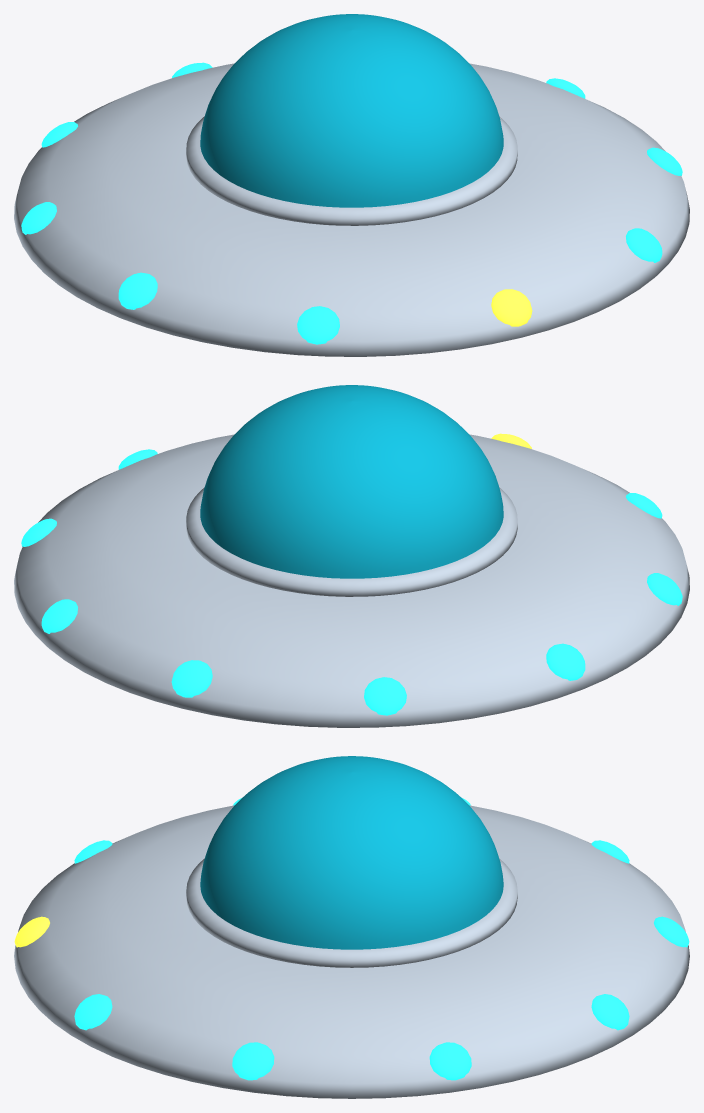
Rendered from AFJ_UFO.fbx.
The picture shows the model from 3 angles, top to bottom: view 1: azimuth 30°, elevation 25°; view 2: azimuth 150°, elevation 25°; view 3: azimuth 270°, elevation 25°; orthographic projection.
Parts seen in each view (by area): view 1: Saucer_Body, Canopy, Canopy_Rim, Rim_Light_09, Rim_Light_00, Rim_Light_08, Rim_Light_01, Rim_Light_07, Rim_Light_02; view 2: Saucer_Body, Canopy, Canopy_Rim, Rim_Light_06, Rim_Light_05, Rim_Light_07, Rim_Light_04, Rim_Light_08, Rim_Light_03; view 3: Saucer_Body, Canopy, Canopy_Rim, Rim_Light_02, Rim_Light_03, Rim_Light_01, Rim_Light_04, Rim_Light_00, Rim_Light_05.
Part boxes in pixels (x1,y1,x2,y2): Saucer_Body: [14, 63, 689, 356]; Canopy: [200, 14, 503, 207]; Canopy_Rim: [186, 116, 517, 225]; Rim_Light_09: [297, 306, 339, 344]; Rim_Light_00: [491, 289, 532, 326]; Rim_Light_08: [118, 272, 157, 309]; Rim_Light_01: [626, 228, 662, 262]; Rim_Light_07: [21, 202, 56, 234]; Rim_Light_02: [647, 147, 682, 175]; Saucer_Body: [14, 434, 689, 727]; Canopy: [200, 385, 503, 578]; Canopy_Rim: [186, 487, 517, 596]; Rim_Light_06: [364, 677, 406, 715]; Rim_Light_05: [171, 660, 212, 697]; Rim_Light_07: [546, 643, 585, 680]; Rim_Light_04: [41, 599, 77, 633]; Rim_Light_08: [647, 573, 682, 605]; Rim_Light_03: [21, 518, 56, 546]; Saucer_Body: [14, 805, 689, 1098]; Canopy: [200, 756, 503, 949]; Canopy_Rim: [186, 858, 517, 967]; Rim_Light_02: [232, 1042, 274, 1080]; Rim_Light_03: [429, 1042, 471, 1080]; Rim_Light_01: [74, 994, 112, 1030]; Rim_Light_04: [591, 994, 629, 1030]; Rim_Light_00: [14, 916, 49, 947]; Rim_Light_05: [654, 916, 689, 947].
Size of the model in its own units: 200 by 77.2 by 200.
